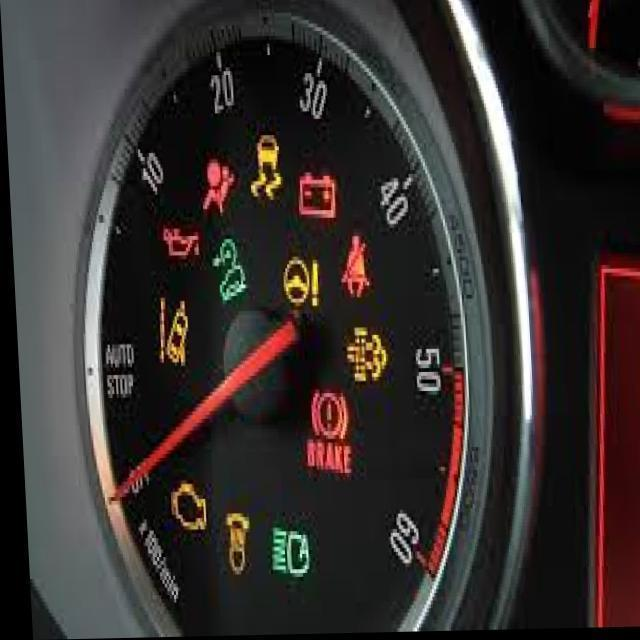Electronic Power Steering: (280, 258, 322, 308)
Seat Belt: (342, 234, 370, 294)
